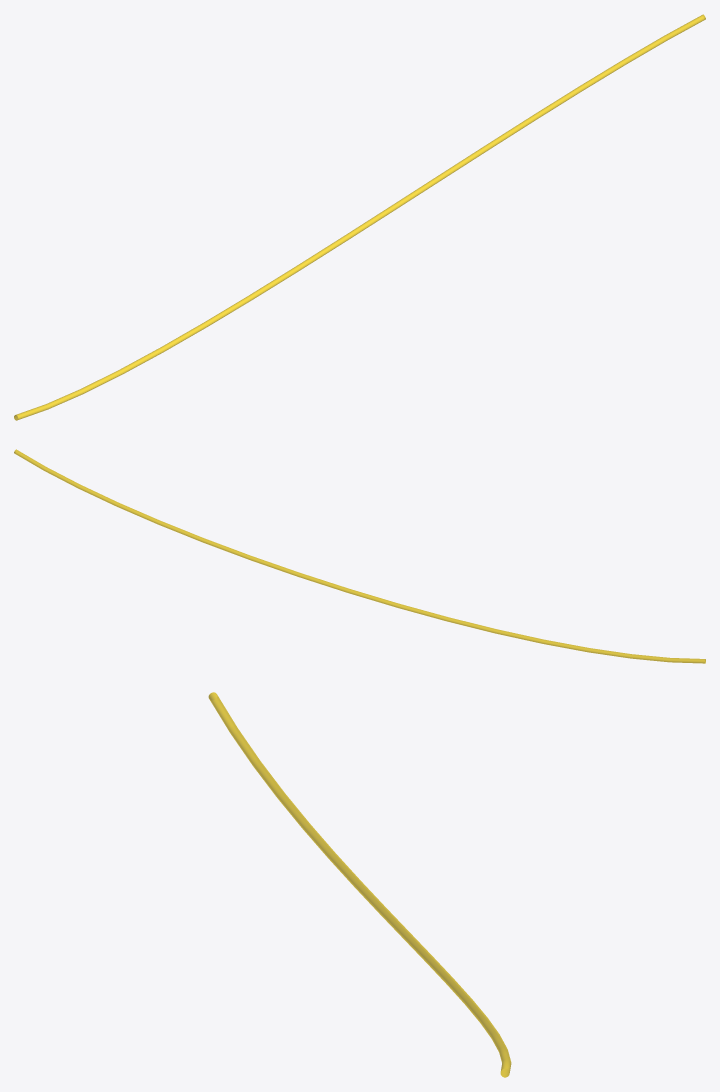
File: Event_40932208_track_21.fbx
3 renders of one model, top to bottom at view 1: azimuth 30°, elevation 25°; view 2: azimuth 150°, elevation 25°; view 3: azimuth 270°, elevation 25°, orthographic. The views are drawn at different scales.
Parts seen in each view (by area): view 1: Model; view 2: Model; view 3: Model.
Boxes of the visible parts, x1,y1,x2,y2 form: Model: (14,14,705,420); Model: (14,449,705,663); Model: (208,692,511,1077).
Bounding box in the file's own units: 6.23 × 1.15 × 1.32.
